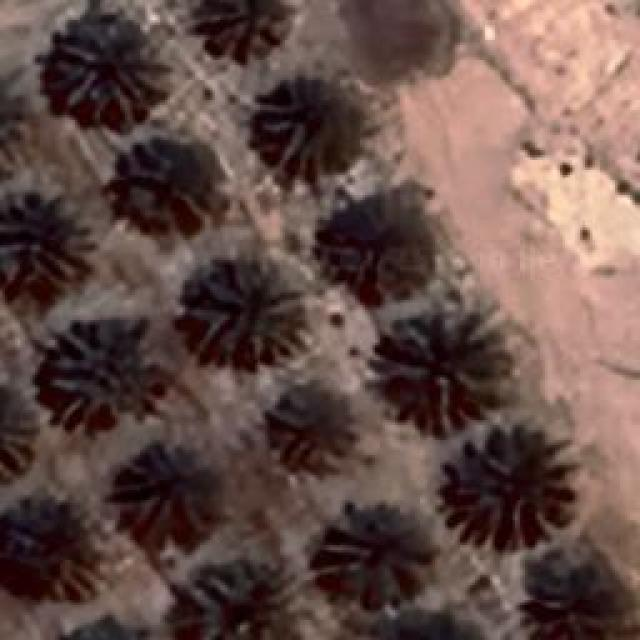PalmTree: (32, 73, 232, 604), (372, 310, 506, 430), (182, 257, 310, 365), (442, 434, 562, 548), (316, 505, 444, 600), (42, 314, 148, 428), (517, 550, 640, 640), (120, 136, 230, 232), (50, 18, 155, 118), (332, 201, 438, 299), (116, 452, 219, 550), (258, 94, 356, 188), (2, 187, 86, 295), (0, 492, 82, 597), (274, 376, 358, 472), (187, 0, 294, 62), (382, 612, 489, 640), (49, 615, 164, 640), (0, 387, 30, 475), (46, 623, 170, 640), (0, 72, 18, 177)
